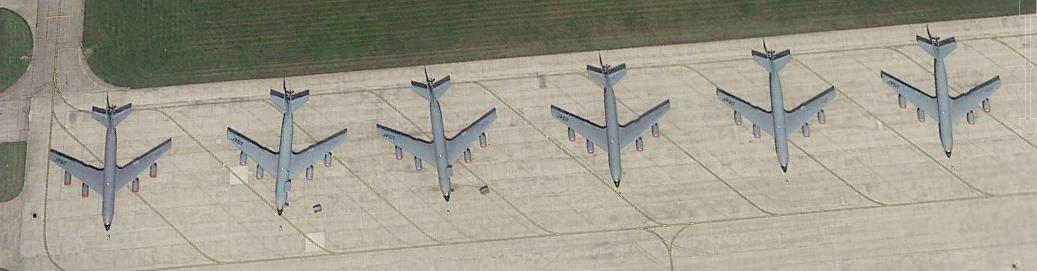KC-135: (223, 83, 355, 217), (46, 97, 175, 231), (718, 38, 841, 177), (375, 70, 499, 204), (877, 28, 1004, 158), (552, 54, 673, 190)
